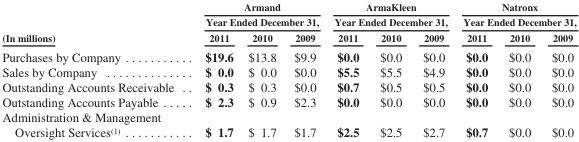table: (1, 0, 575, 139)
table column: (1, 0, 188, 139), (188, 0, 240, 139), (240, 0, 284, 139), (325, 0, 368, 139), (368, 0, 411, 139), (411, 0, 454, 139), (454, 0, 497, 139), (497, 0, 540, 139), (284, 0, 325, 139), (540, 0, 575, 139)
table column header: (1, 0, 575, 45)
table row: (1, 109, 575, 139), (1, 0, 575, 29), (1, 45, 575, 63), (1, 29, 575, 45), (1, 78, 575, 94), (1, 63, 575, 78), (1, 94, 575, 109)
table spanning cell: (1, 0, 188, 45), (188, 0, 325, 29), (325, 0, 454, 29), (454, 0, 575, 29)
